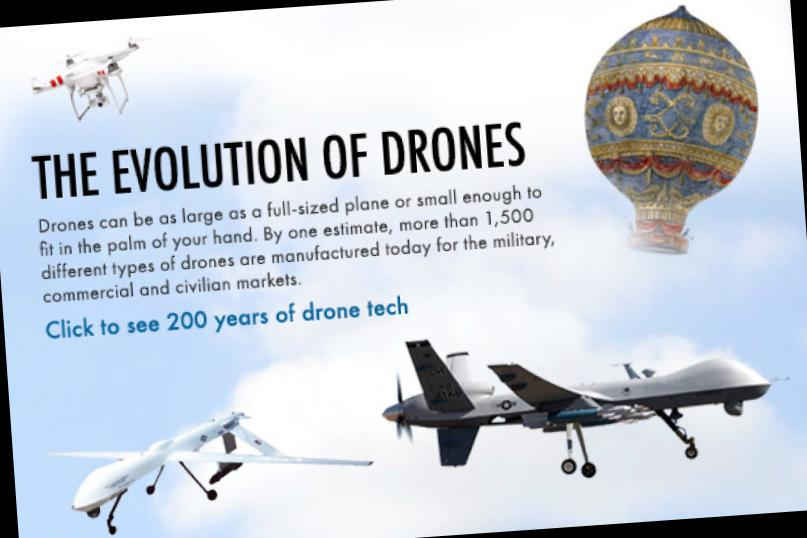drone: (25, 32, 162, 120)
